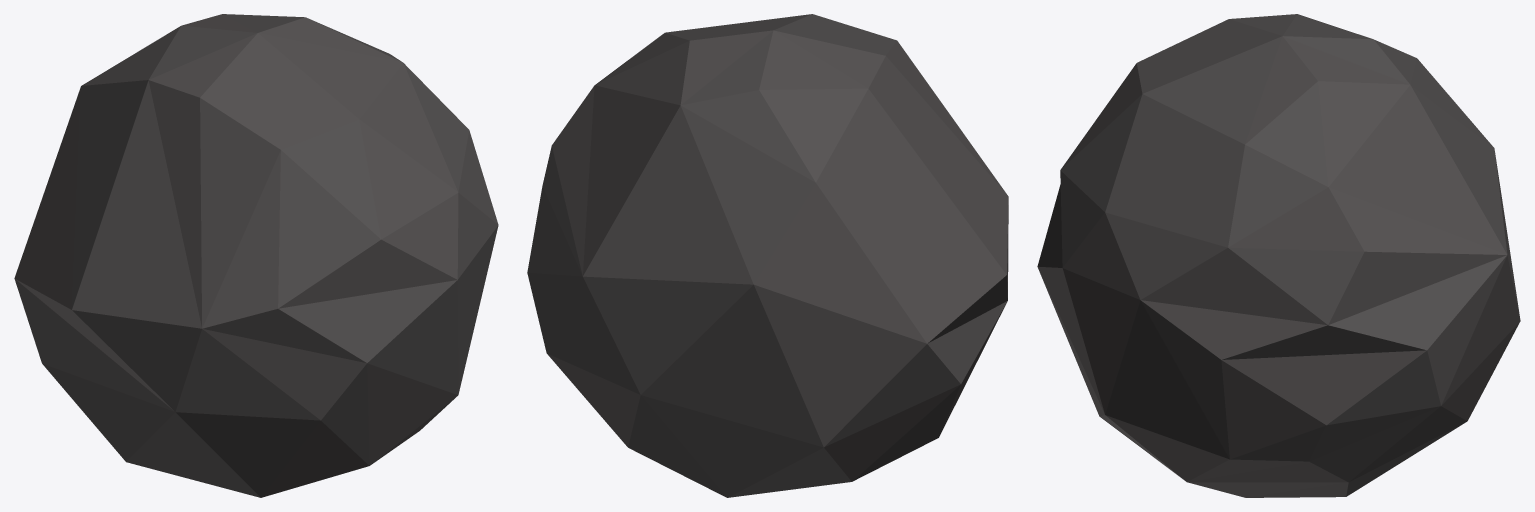
The model's file is LPSWP_CatapultRock01.fbx.
3 renders of one model, left to right at view 1: azimuth 30°, elevation 25°; view 2: azimuth 150°, elevation 25°; view 3: azimuth 270°, elevation 25°, orthographic.
Visible parts, largest first — view 1: LPSWP_CatapultRock01; view 2: LPSWP_CatapultRock01; view 3: LPSWP_CatapultRock01.
Boxes of the visible parts, x1=… form: LPSWP_CatapultRock01: x1=14, y1=14, x2=498, y2=497; LPSWP_CatapultRock01: x1=527, y1=14, x2=1008, y2=497; LPSWP_CatapultRock01: x1=1037, y1=14, x2=1520, y2=497.
Bounding box in the file's own units: 0.4247 × 0.4354 × 0.4273.
